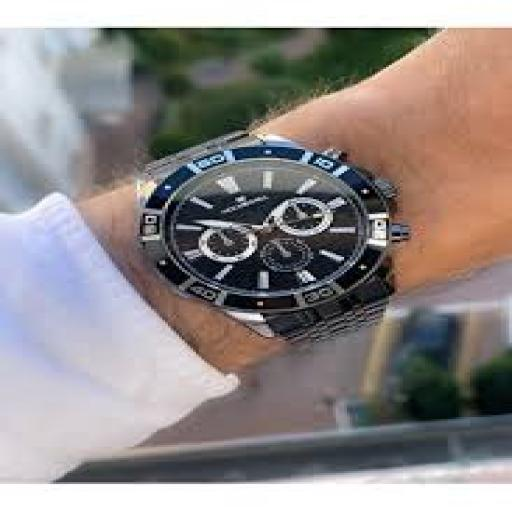KolSaati: (124, 111, 432, 366)
